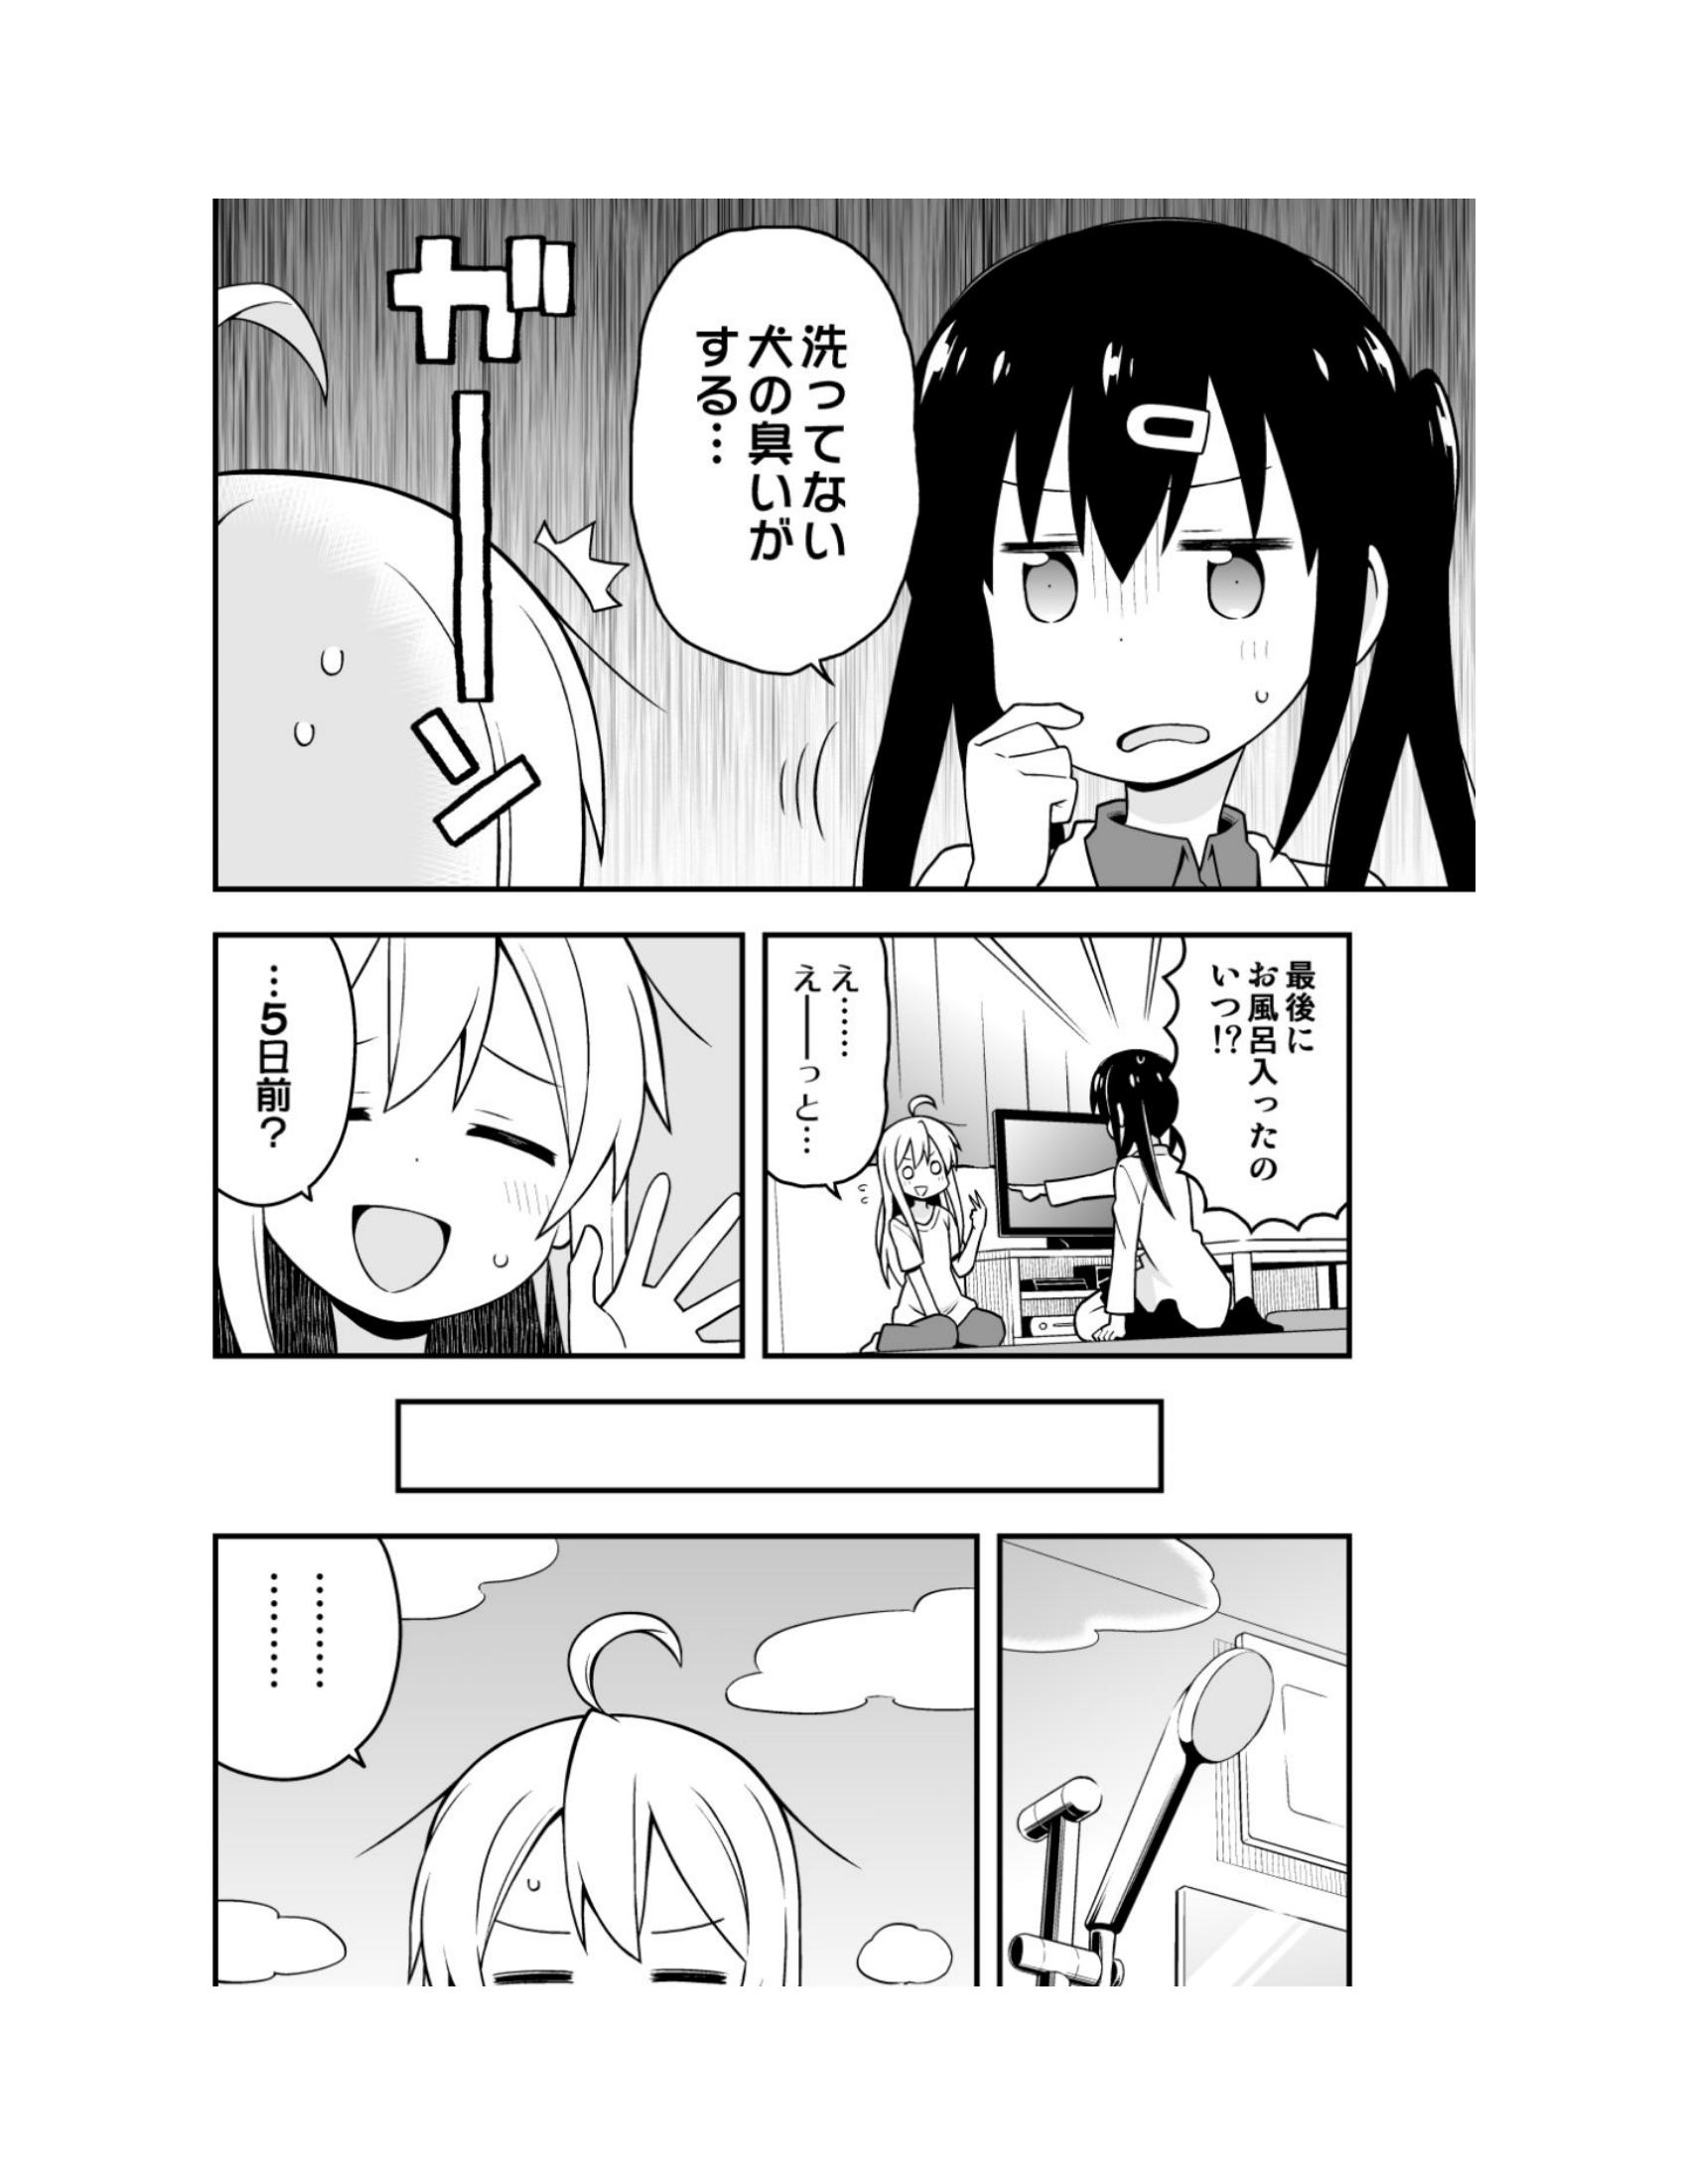a: (605, 218, 911, 693), (1129, 925, 1362, 1232), (197, 925, 369, 1211), (755, 932, 911, 1188)
